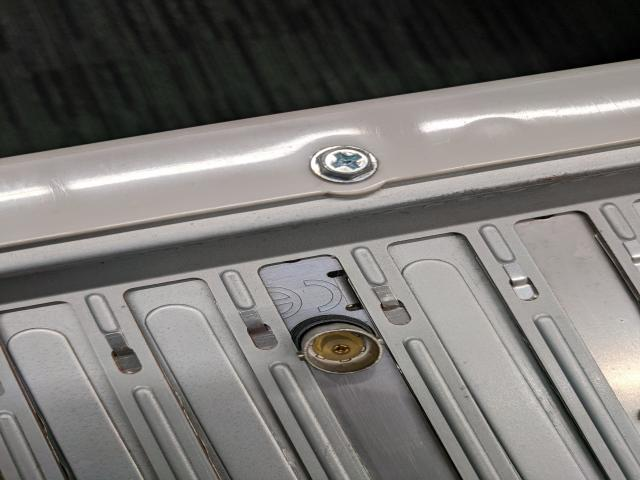CRS: (309, 146, 377, 178)
